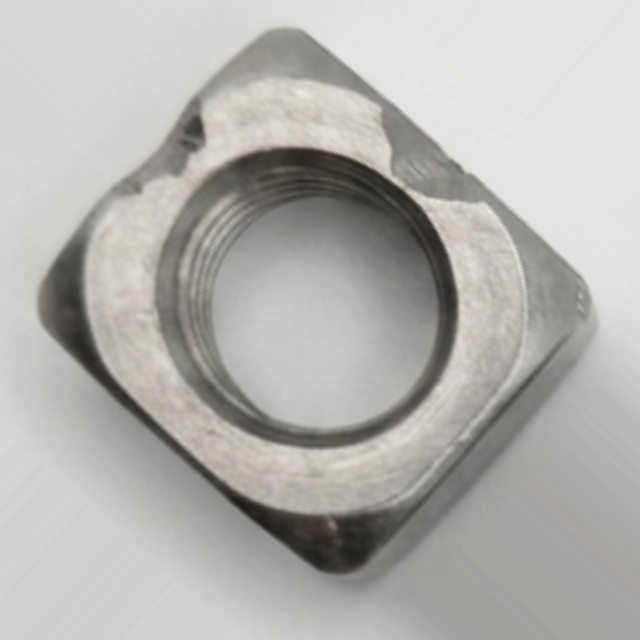defect: (369, 88, 486, 211), (113, 95, 217, 198)
